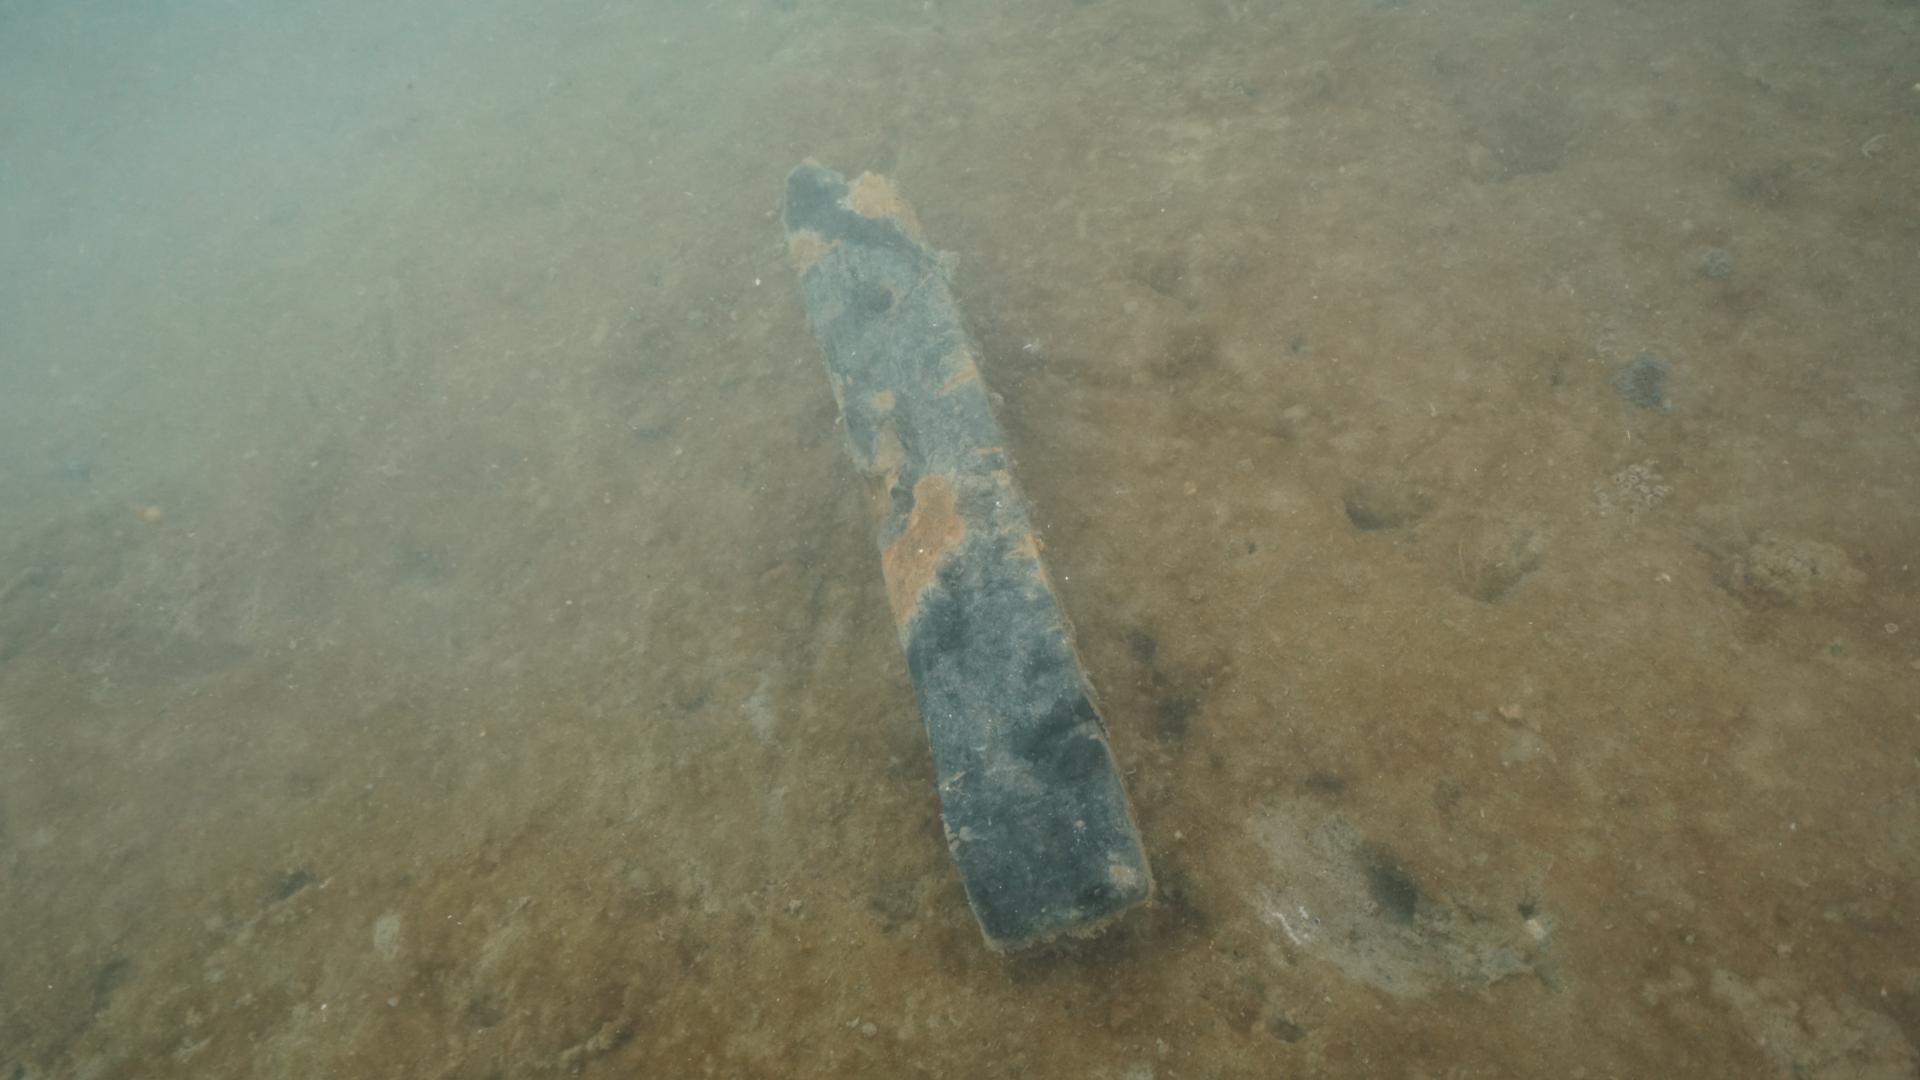wood: (775, 154, 1163, 977)
